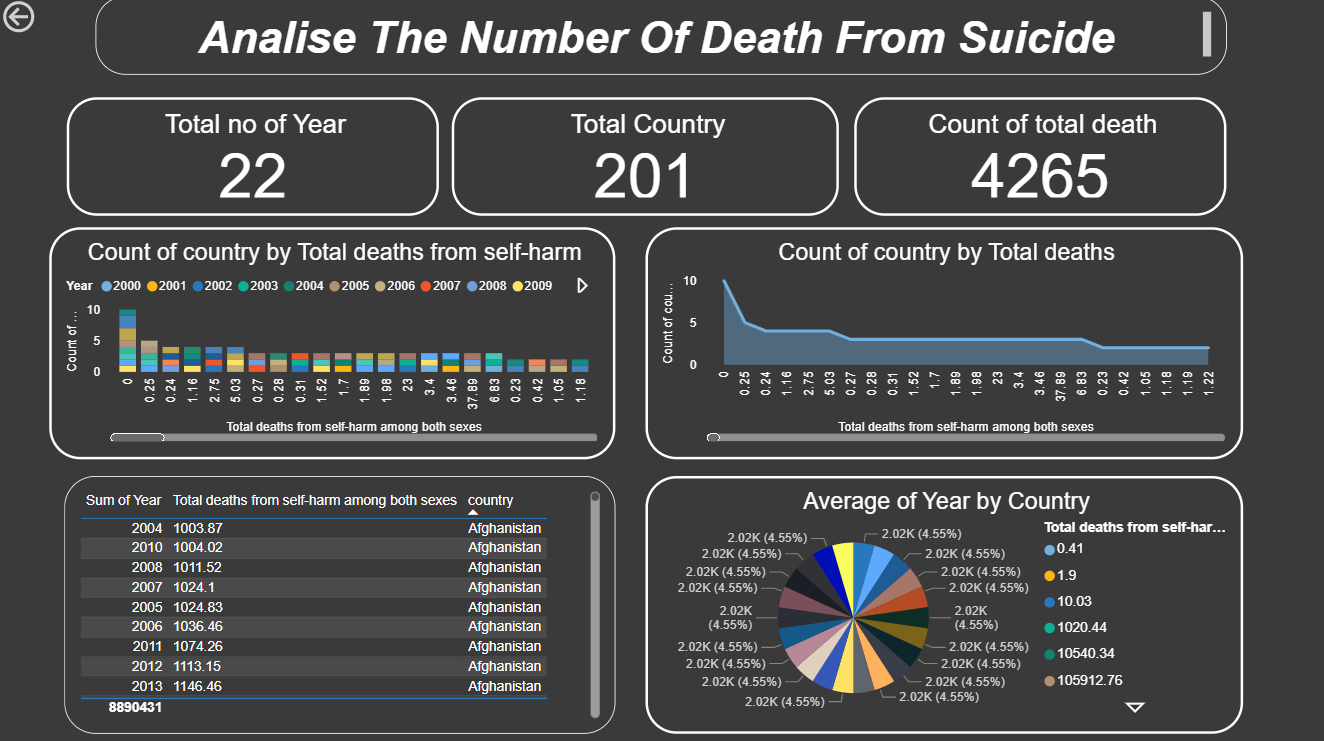

The dashboard page shown, as its layout file describes it:
{"tool":"powerbi","page":{"name":"Page 1","canvas":[1280,720],"ordinal":0},"visuals":[{"type":"actionButton","box":[0,0,100,40],"z":0},{"type":"tableEx","fields":{"Values":["Sum(number-of-deaths-from-suicide n.Year)","number-of-deaths-from-suicide n.Total deaths from self-harm among both sexes","number-of-deaths-from-suicide n.country"]},"box":[0,471.2,532.5,248.8],"z":1000},{"type":"pieChart","title":"Average of Year by Country","fields":{"Category":["number-of-deaths-from-suicide n.Total deaths from self-harm among both sexes"],"Y":["Avg(number-of-deaths-from-suicide n.Year)"],"Series":["number-of-deaths-from-suicide n.country"]},"box":[561.2,471.2,576.2,248.8],"z":2000},{"type":"textbox","box":[30,1.2,1092.5,76.2],"z":3000},{"type":"columnChart","title":"Count of country by Total deaths from self-harm ","fields":{"Category":["number-of-deaths-from-suicide n.Total deaths from self-harm among both sexes"],"Y":["CountNonNull(number-of-deaths-from-suicide n.country)"],"Series":["number-of-deaths-from-suicide n.Year"]},"box":[0,223.8,546.2,223.8],"z":4000},{"type":"areaChart","title":"Count of country by Total deaths ","fields":{"Category":["number-of-deaths-from-suicide n.Total deaths from self-harm among both sexes"],"Y":["CountNonNull(number-of-deaths-from-suicide n.country)"]},"box":[561.2,223.8,576.2,223.8],"z":5000},{"type":"card","title":"Total no of Year","fields":{"Values":["Count(number-of-deaths-from-suicide n.Year)"]},"box":[8.8,95,358.8,115],"z":6000},{"type":"card","title":"Total Country","fields":{"Values":["Count(number-of-deaths-from-suicide n.country)"]},"box":[382.5,95,373.8,115],"z":7000},{"type":"card","title":"Count of total death","fields":{"Values":["Count(number-of-deaths-from-suicide n.Total deaths from self-harm among both sexes)"]},"box":[778.8,95,358.8,115],"z":8000}]}

Visuals, with their boxes in screenshot pixels (x1, y1, x2, y2), scaled from the page's 1280x720 canvas onto the 1324x741 screenshot:
actionButton: {"left": 0, "top": 0, "right": 103, "bottom": 41}
tableEx - Sum(number-of-deaths-from-suicide n.Year) x number-of-deaths-from-suicide n.Total deaths from self-harm among both sexes: {"left": 0, "top": 485, "right": 551, "bottom": 740}
"Average of Year by Country" pieChart: {"left": 580, "top": 485, "right": 1176, "bottom": 740}
textbox: {"left": 31, "top": 1, "right": 1161, "bottom": 80}
"Count of country by Total deaths from self-harm " columnChart: {"left": 0, "top": 230, "right": 565, "bottom": 461}
"Count of country by Total deaths " areaChart: {"left": 580, "top": 230, "right": 1176, "bottom": 461}
"Total no of Year" card: {"left": 9, "top": 98, "right": 380, "bottom": 216}
"Total Country" card: {"left": 396, "top": 98, "right": 782, "bottom": 216}
"Count of total death" card: {"left": 806, "top": 98, "right": 1177, "bottom": 216}
